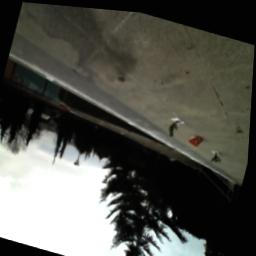herb: (169, 118, 181, 136), (213, 148, 225, 162)
wild: (189, 131, 207, 147)
